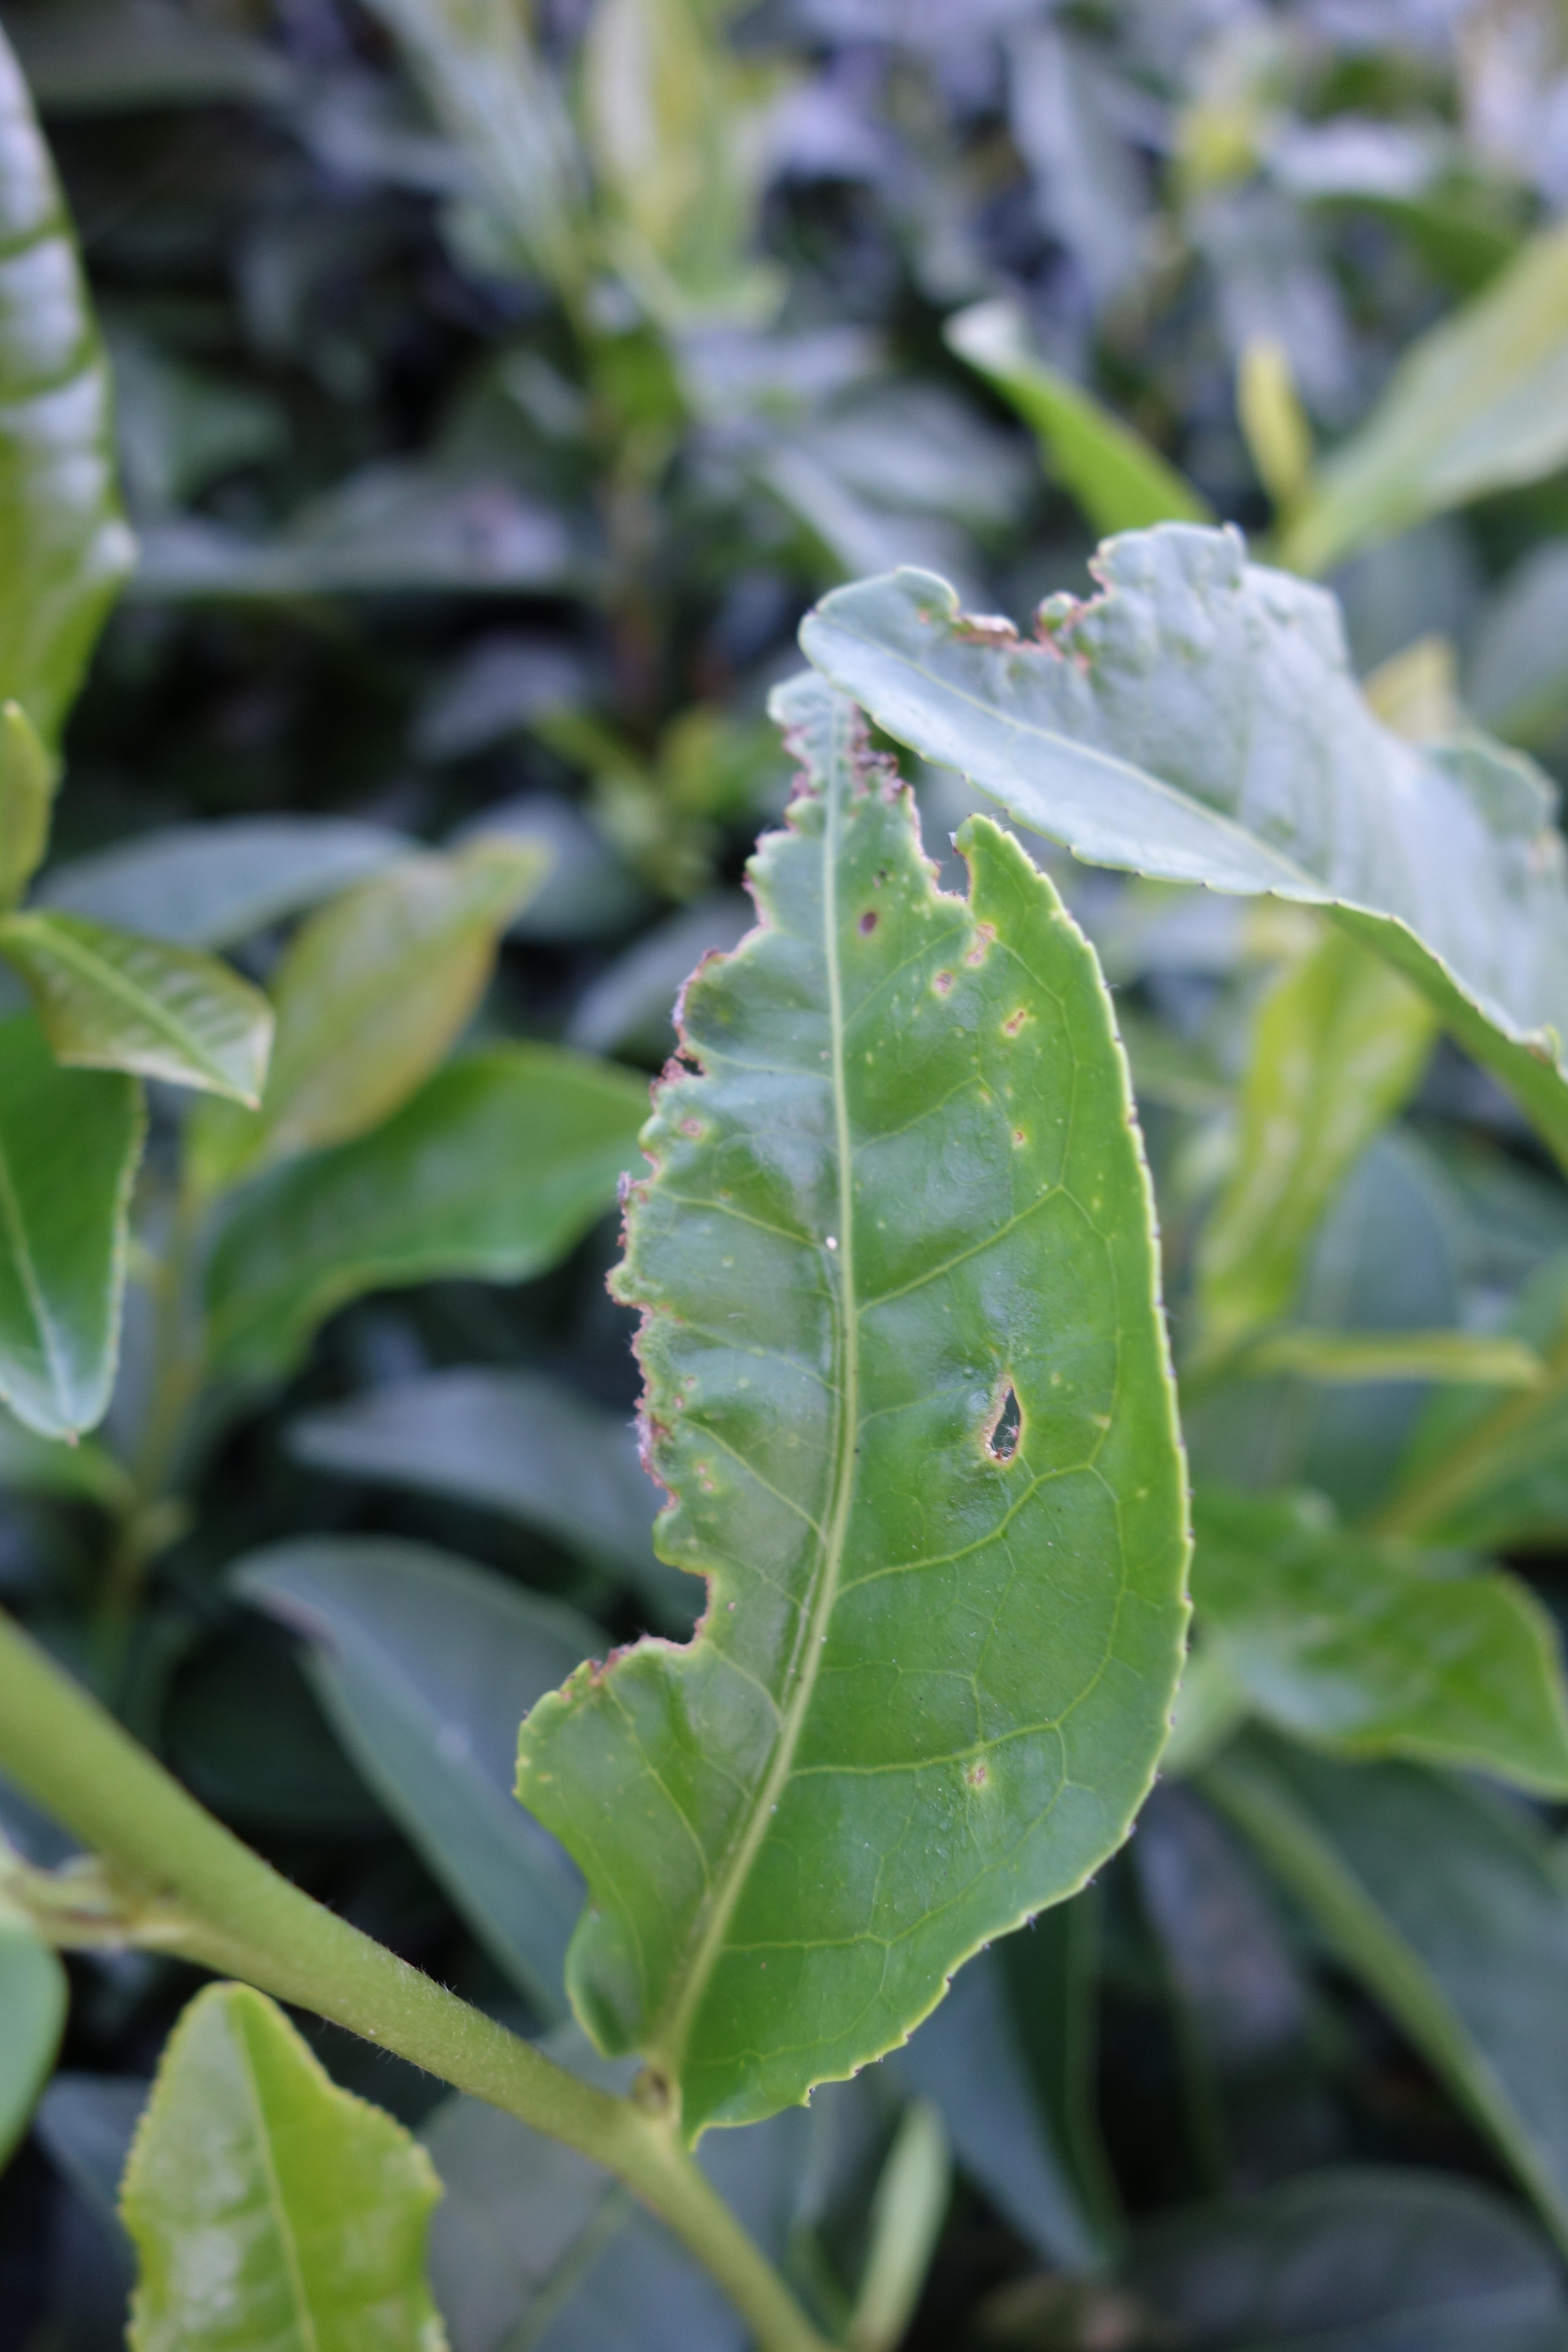chihuo_high: (507, 670, 1190, 2156)
chihuo_low: (800, 516, 1568, 1120)
